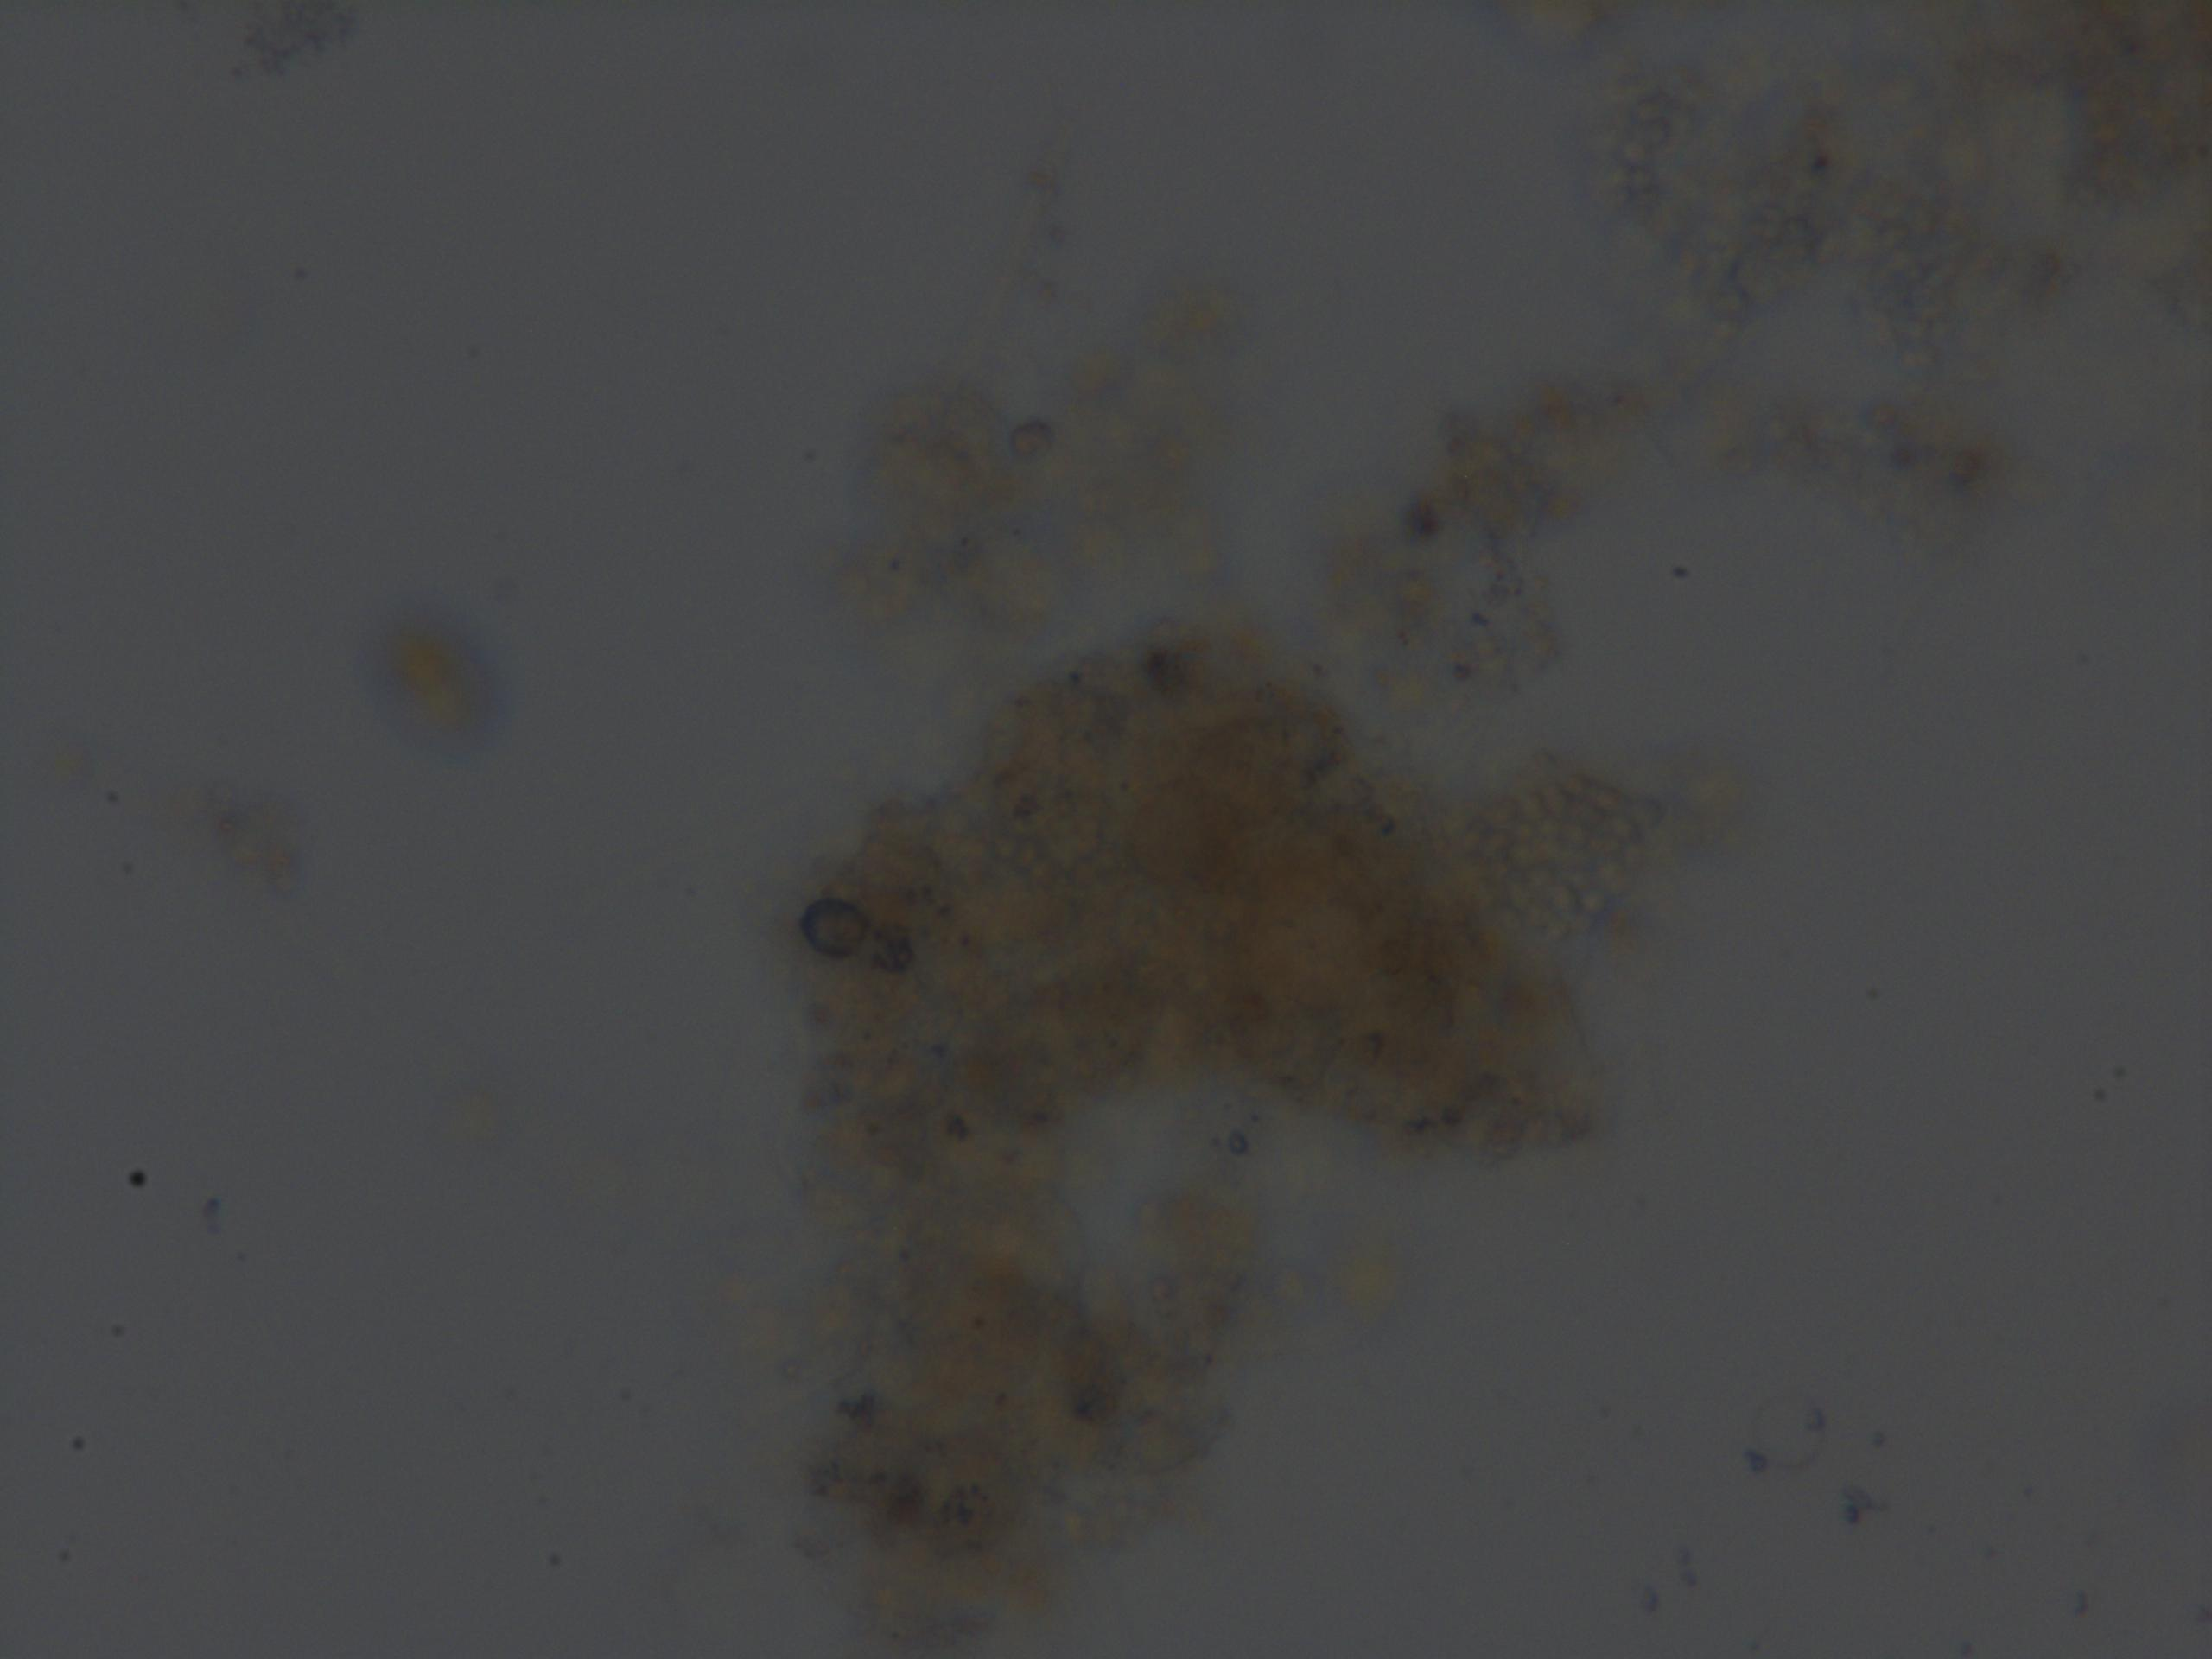open_floc: (768, 617, 1608, 1652)
